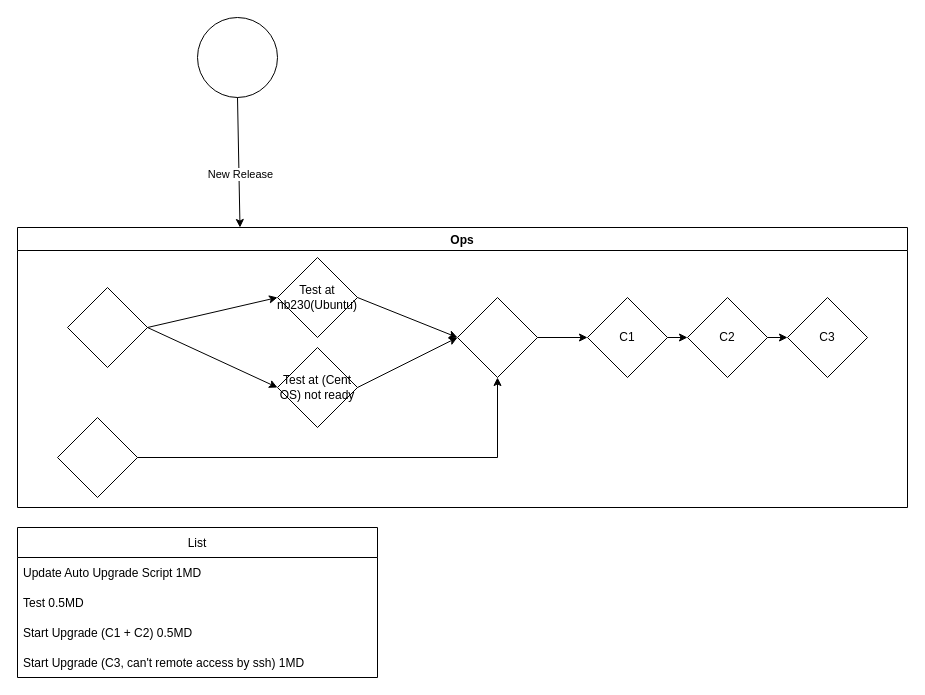
The diagram is 925 pixels wide and 695 high, and some of its shapes have lost their labels. The centre of each missing label's shape, as x and y in pixels:
product: the point at 237,57
Start: the point at 497,337
Update Auto Upgrade Script: the point at 107,327
Upload packages to Clients: the point at 97,457
